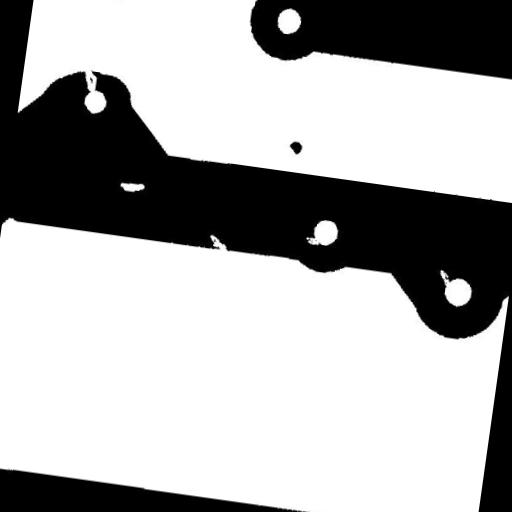copper: (280, 132, 310, 162)
mousebite: (428, 260, 464, 304), (200, 226, 238, 261), (296, 228, 330, 254)
open: (74, 57, 106, 101)
pin-hole: (111, 172, 153, 202)
